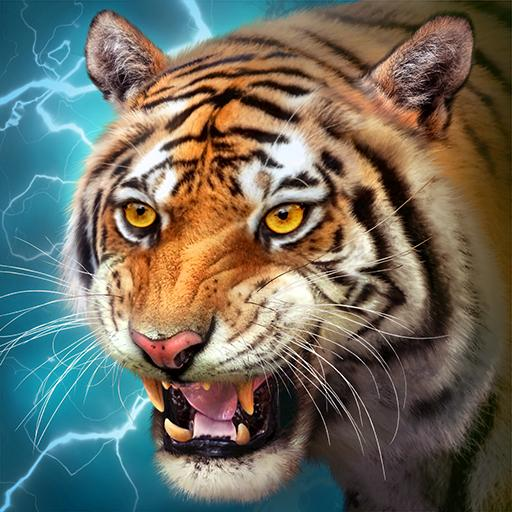Tiger: (56, 0, 512, 512)
